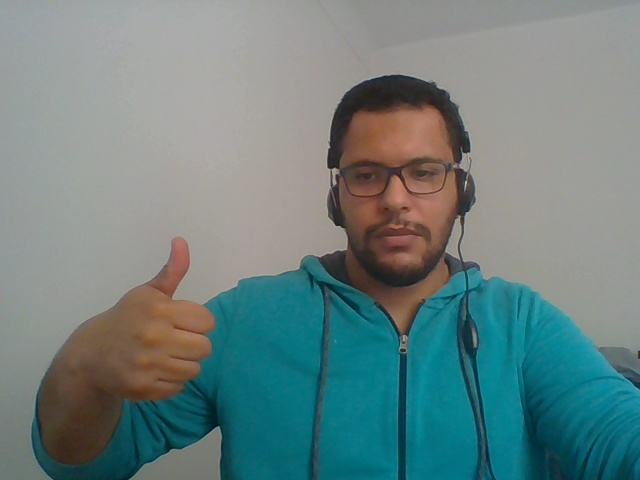ok: (81, 229, 228, 436)
